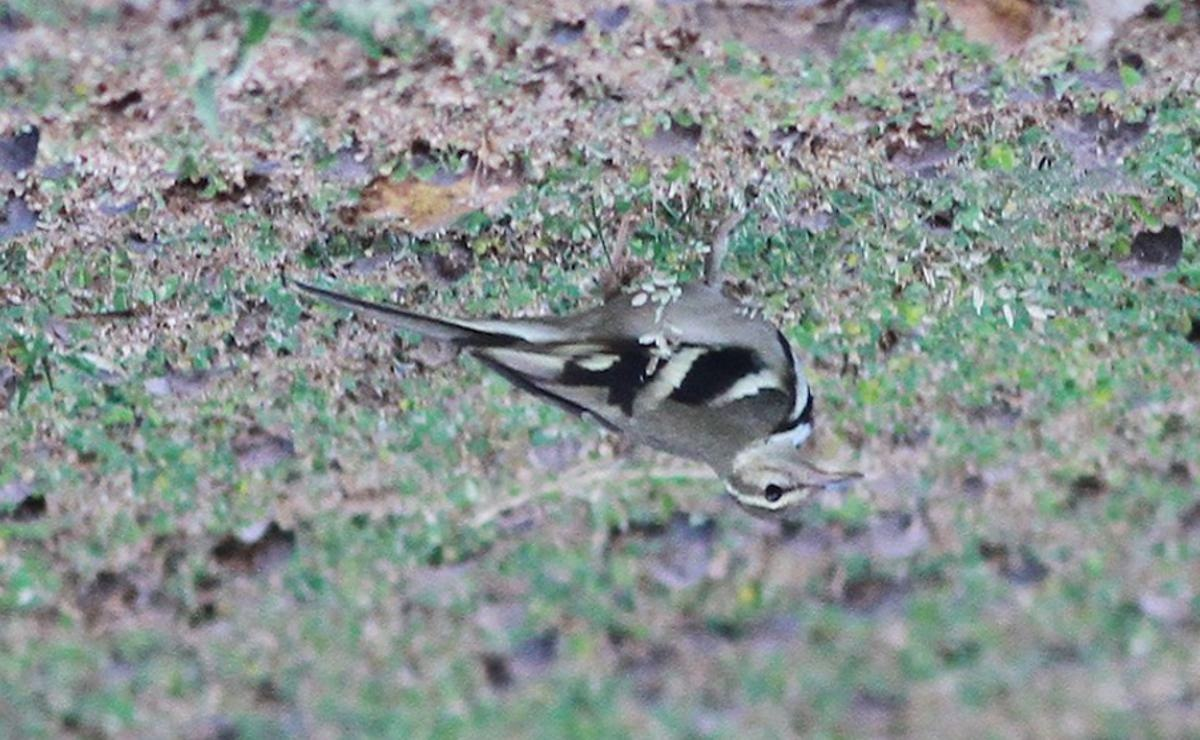wagtail: (309, 233, 875, 516)
